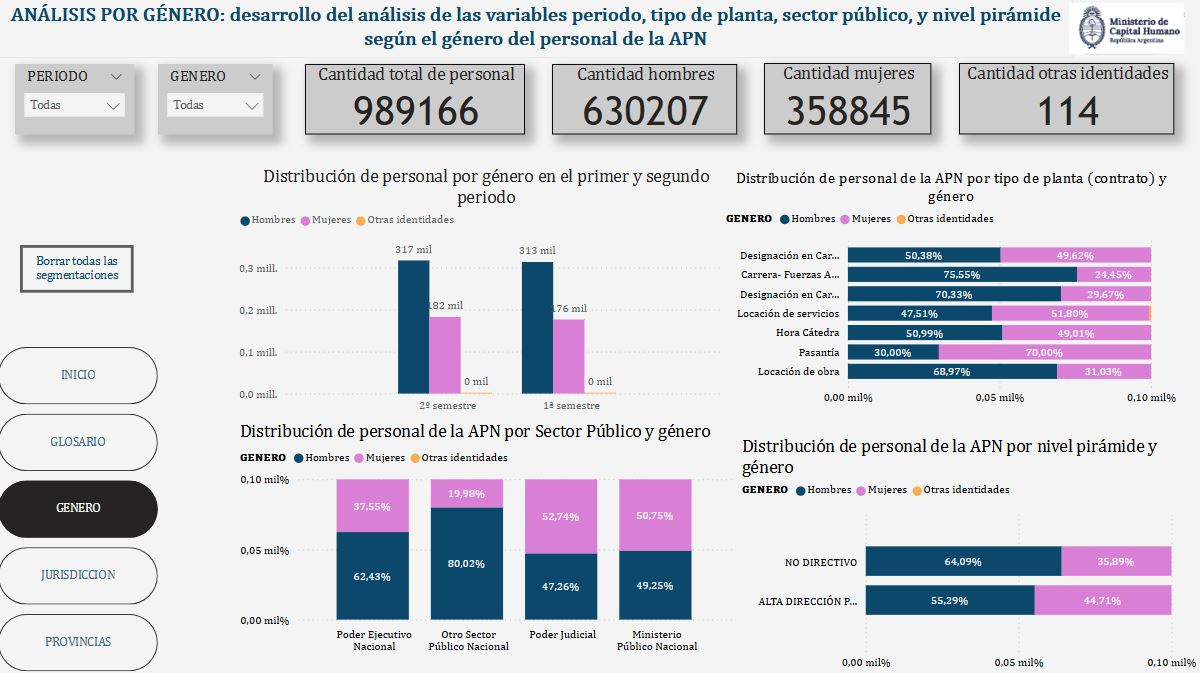

The page's visual inventory and layout, read from the dashboard file:
{"tool":"powerbi","page":{"name":"GENERO","canvas":[1280,720],"ordinal":2},"visuals":[{"type":"clusteredColumnChart","title":"Distribución de personal por género en el primer y segundo periodo","fields":{"Y":["Sum(personal.puestos_de_trabajo)"],"Category":["personal.PERIODO"],"Series":["personal.GENERO"]},"box":[251.7,179.6,534.1,267.1],"z":0},{"type":"actionButton","box":[0,0,100,40],"z":1000},{"type":"card","title":"Cantidad total de personal","fields":{"Values":["Sum(personal.puestos_de_trabajo)"]},"box":[326.9,70.1,234.3,74.6],"z":2000},{"type":"slicer","fields":{"Values":["personal.PERIODO"]},"box":[17.9,70.1,126.9,74.6],"z":3000},{"type":"slicer","fields":{"Values":["personal.GENERO"]},"box":[170.1,70.1,122.4,74.6],"z":4000},{"type":"hundredPercentStackedBarChart","title":"Distribución de personal de la APN por nivel pirámide y género","fields":{"Category":["personal.NIVEL_PIRAMIDE"],"Y":["Sum(personal.puestos_de_trabajo)"],"Series":["personal.GENERO"]},"box":[785.8,466.6,494.2,253.2],"z":5000},{"type":"textbox","box":[0,0,1143.5,63.5],"z":6000},{"type":"card","title":"Cantidad hombres","fields":{"Values":["Sum(personal.puestos_de_trabajo)"]},"box":[589.6,70.1,197,74.6],"z":7000},{"type":"card","title":"Cantidad mujeres","fields":{"Values":["Sum(personal.puestos_de_trabajo)"]},"box":[814.9,68.7,177.6,76.1],"z":8000},{"type":"card","title":"Cantidad otras identidades","fields":{"Values":["Sum(personal.puestos_de_trabajo)"]},"box":[1022.4,69.1,229,76.3],"z":9000},{"type":"image","box":[1120,0,160,64.6],"z":10000},{"type":"pageNavigator","box":[0,370.8,170.8,349.2],"z":11000},{"type":"actionButton","box":[23.9,262.7,120.9,50.7],"z":12000},{"type":"hundredPercentStackedColumnChart","title":"Distribución de personal de la APN por Sector Público y género","fields":{"Category":["personal.SECTOR_PUBLICO"],"Y":["Sum(personal.puestos_de_trabajo)"],"Series":["personal.GENERO"]},"box":[251.7,451.2,534.1,253.2],"z":13000},{"type":"hundredPercentStackedBarChart","title":"Distribución de personal de la APN por tipo de planta (contrato) y género","fields":{"Category":["personal.TIPO_DE_PLANTA"],"Y":["Sum(personal.puestos_de_trabajo)"],"Series":["personal.GENERO"]},"box":[769,184.3,489.6,254.9],"z":14000}]}

Visuals, with their boxes in screenshot pixels (x1, y1, x2, y2), scaled from the page's 1280x720 canvas onto the 1200x673 screenshot:
"Distribución de personal por género en el primer y segundo periodo" clusteredColumnChart: box=[236, 168, 737, 418]
actionButton: box=[0, 0, 94, 37]
"Cantidad total de personal" card: box=[306, 66, 526, 135]
slicer - personal.PERIODO: box=[17, 66, 136, 135]
slicer - personal.GENERO: box=[159, 66, 274, 135]
"Distribución de personal de la APN por nivel pirámide y género" hundredPercentStackedBarChart: box=[737, 436, 1199, 672]
textbox: box=[0, 0, 1072, 59]
"Cantidad hombres" card: box=[553, 66, 737, 135]
"Cantidad mujeres" card: box=[764, 64, 930, 135]
"Cantidad otras identidades" card: box=[958, 65, 1173, 136]
image: box=[1050, 0, 1199, 60]
pageNavigator: box=[0, 347, 160, 672]
actionButton: box=[22, 246, 136, 293]
"Distribución de personal de la APN por Sector Público y género" hundredPercentStackedColumnChart: box=[236, 422, 737, 658]
"Distribución de personal de la APN por tipo de planta (contrato) y género" hundredPercentStackedBarChart: box=[721, 172, 1180, 411]
